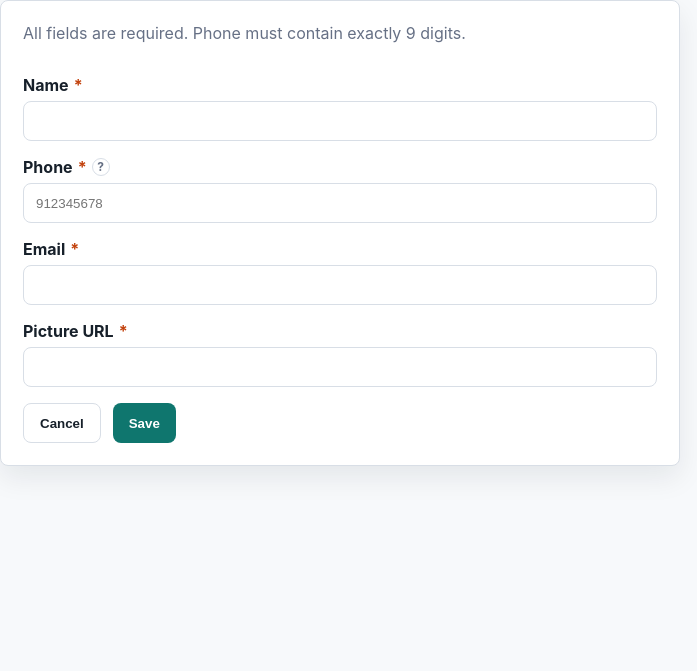
Test: ContactForm › shows inline validation errors before submitting invalid contact data
This screenshot has width=697, height=671.
Type "Ana" into the field labelled "Name" at (340, 121), box [23, 101, 657, 141]
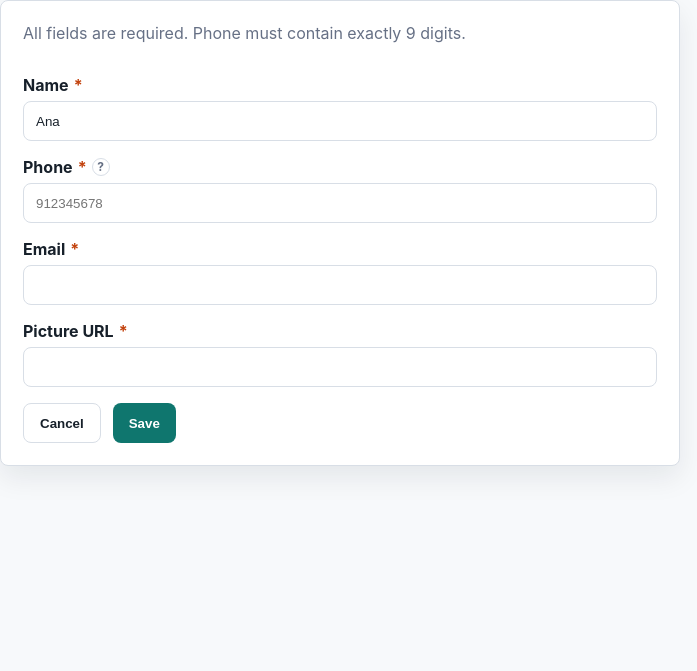
Type "123" into the field labelled "Phone" at (340, 203), box [23, 183, 657, 223]
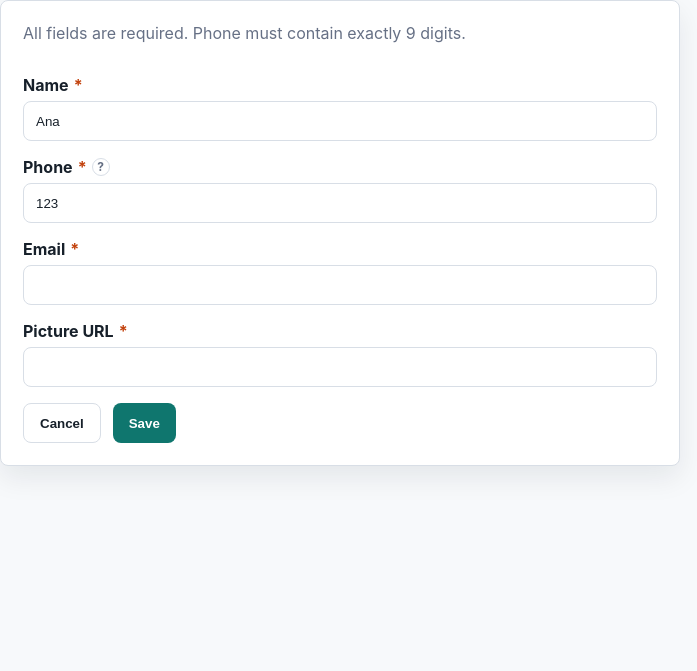
Click the button "Save" at (144, 423), box [113, 403, 176, 443]
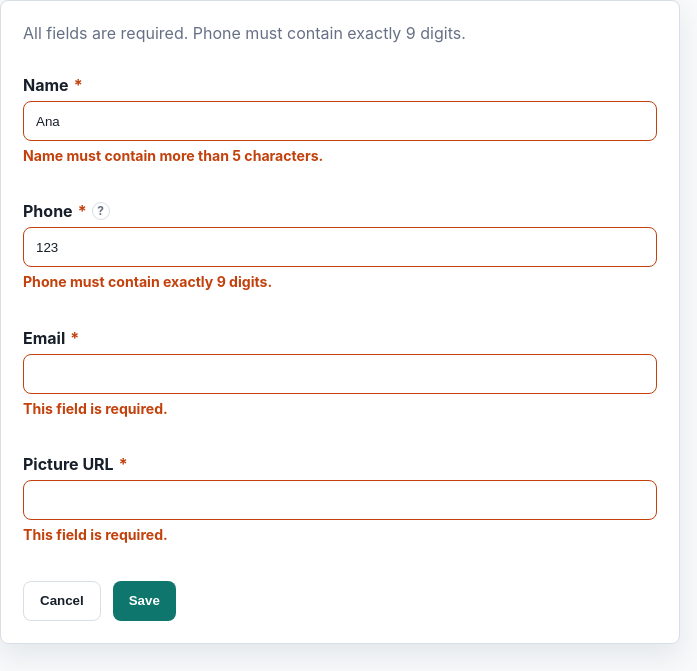
Expected: the text "Name must contain more than 5 characters." is shown, [23, 147, 323, 164]
Expected: the text "Phone must contain exactly 9 digits." is shown, [23, 273, 272, 290]
